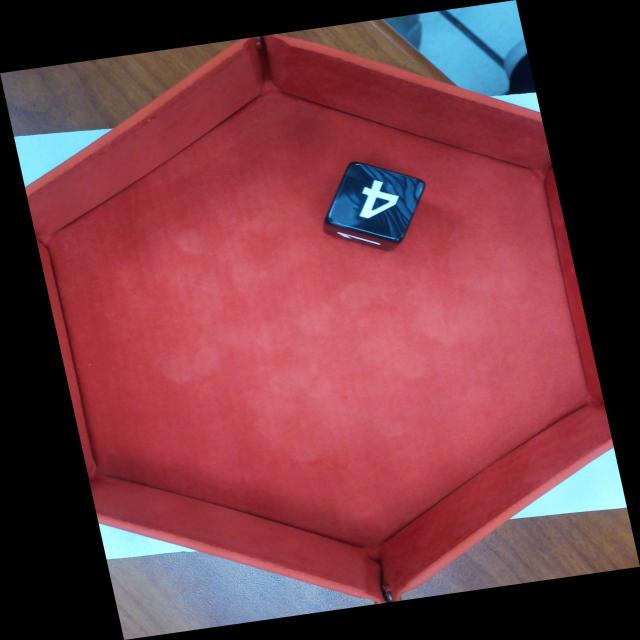dice: (322, 160, 429, 244)
